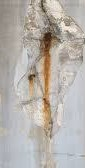Corrosion: (42, 31, 52, 133), (26, 74, 35, 95)
Spalling: (16, 1, 85, 138)
